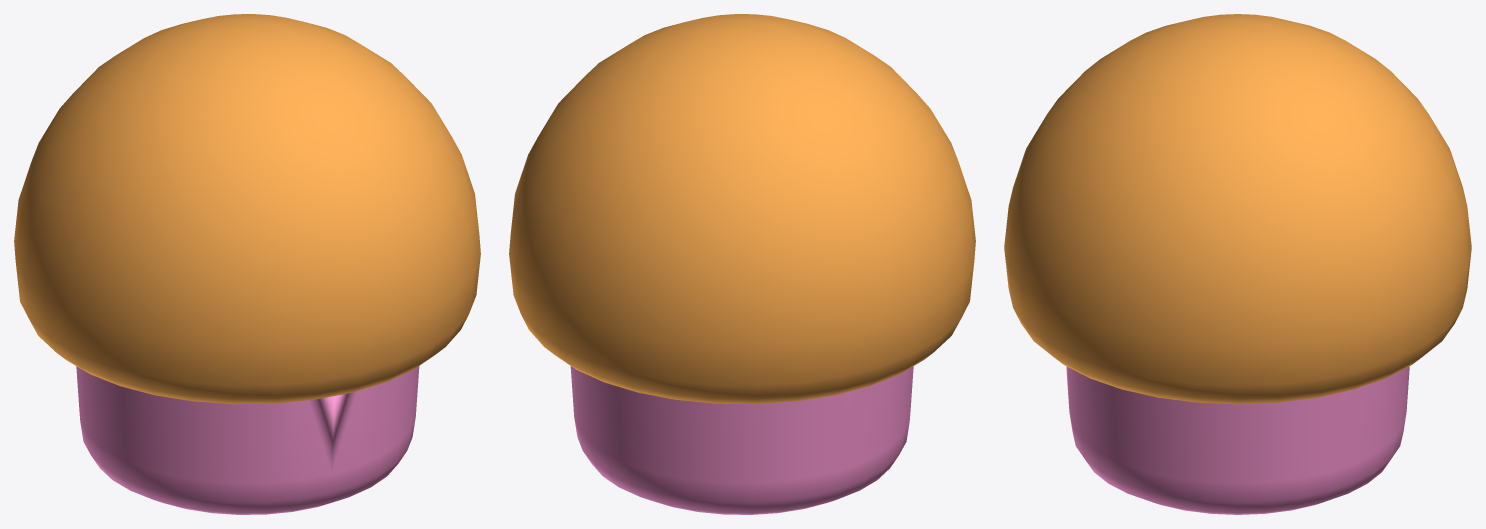
Rendered from ToyObject_007.fbx.
3 views of the same model, side by side, from view 1: azimuth 30°, elevation 25°; view 2: azimuth 150°, elevation 25°; view 3: azimuth 270°, elevation 25° (orthographic).
Visible parts, largest first — view 1: object-1.010; view 2: object-1.010; view 3: object-1.010.
Part boxes in pixels (left/top/right/bottom): object-1.010: left=14, top=14, right=480, bottom=514; object-1.010: left=509, top=14, right=975, bottom=514; object-1.010: left=1004, top=14, right=1471, bottom=514.
Bounding box in the file's own units: 0.0997 × 0.0996 × 0.0997.
